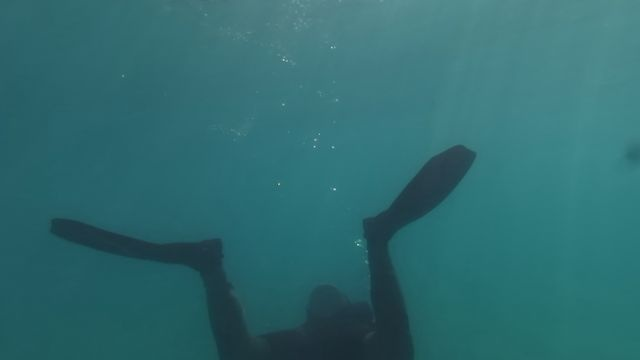Diver: (43, 134, 496, 355)
